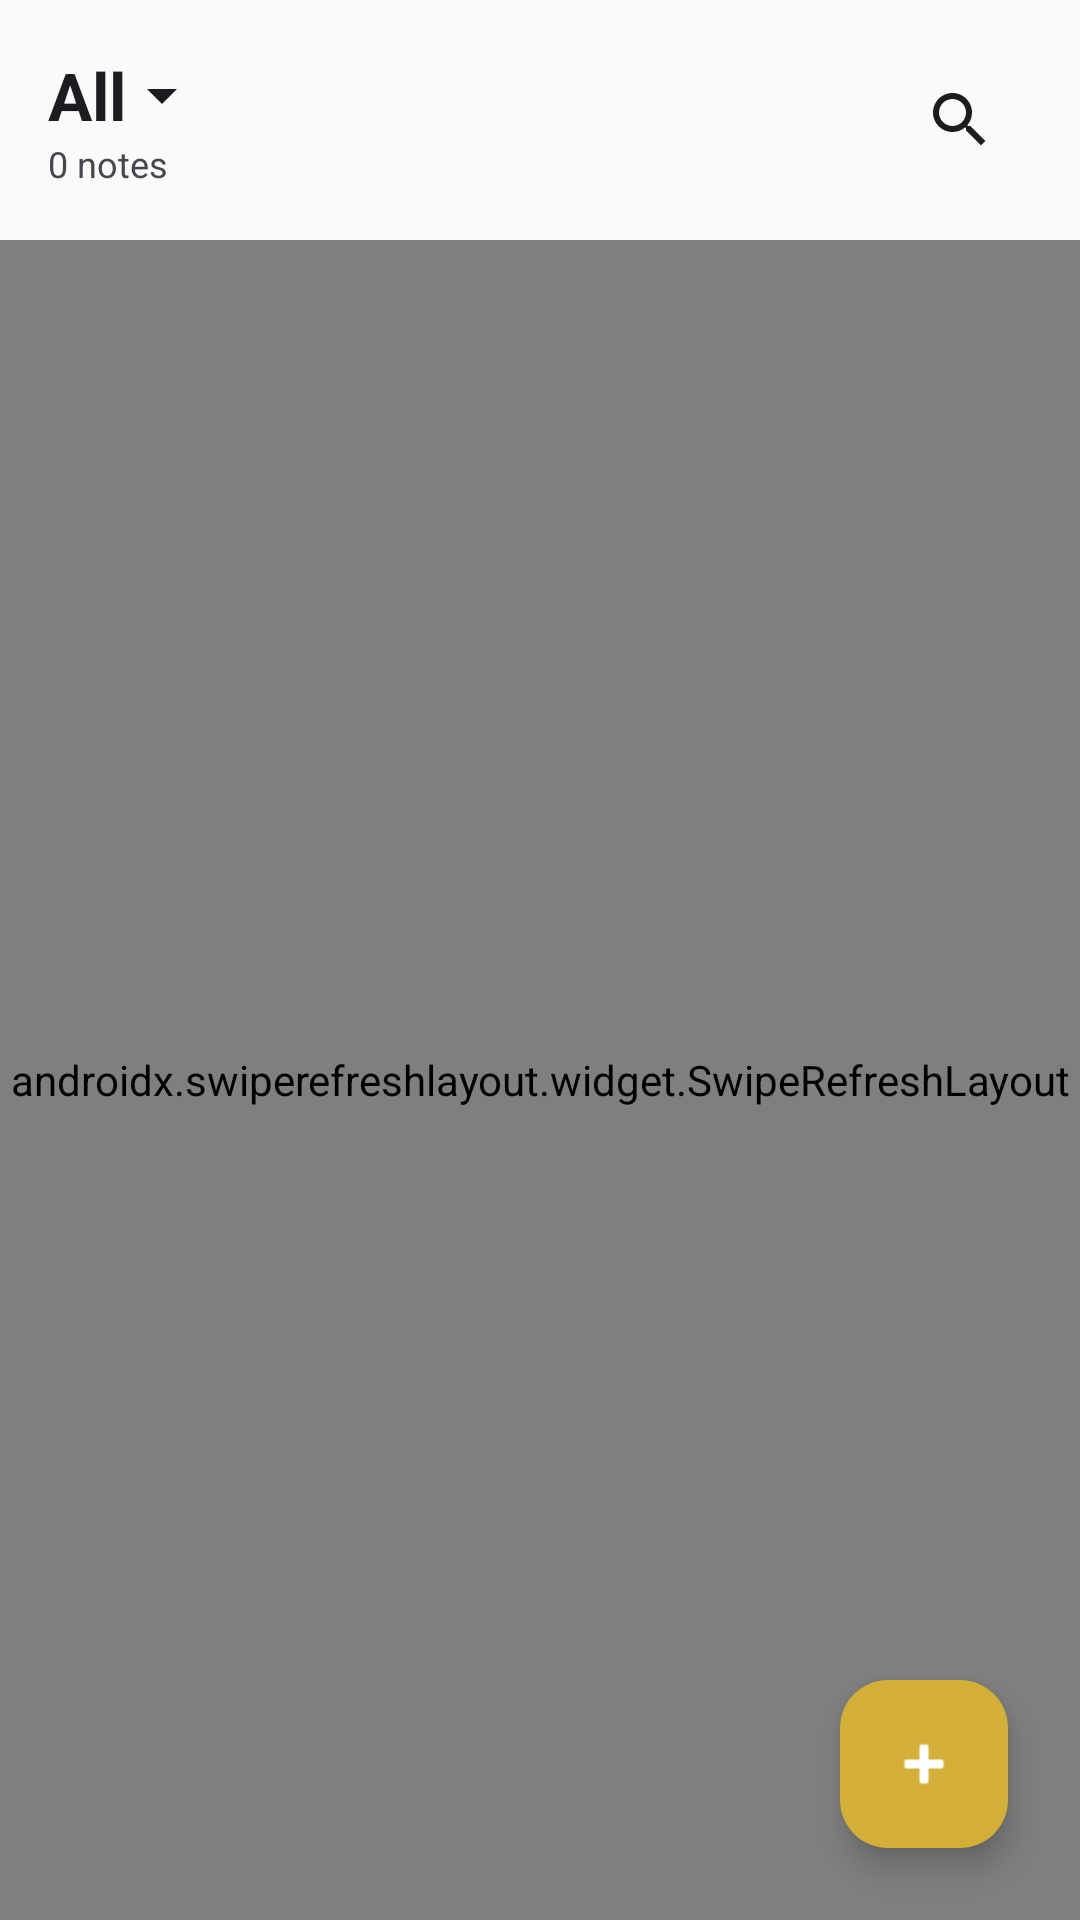

Named icons in this screenshot (1080×1920) and their bounding boxes, BBox(x1, y1, x2, y2):
Add new note: BBox(840, 1680, 1008, 1848)
arrow drop down: BBox(147, 89, 177, 104)
search: BBox(933, 93, 985, 145)
